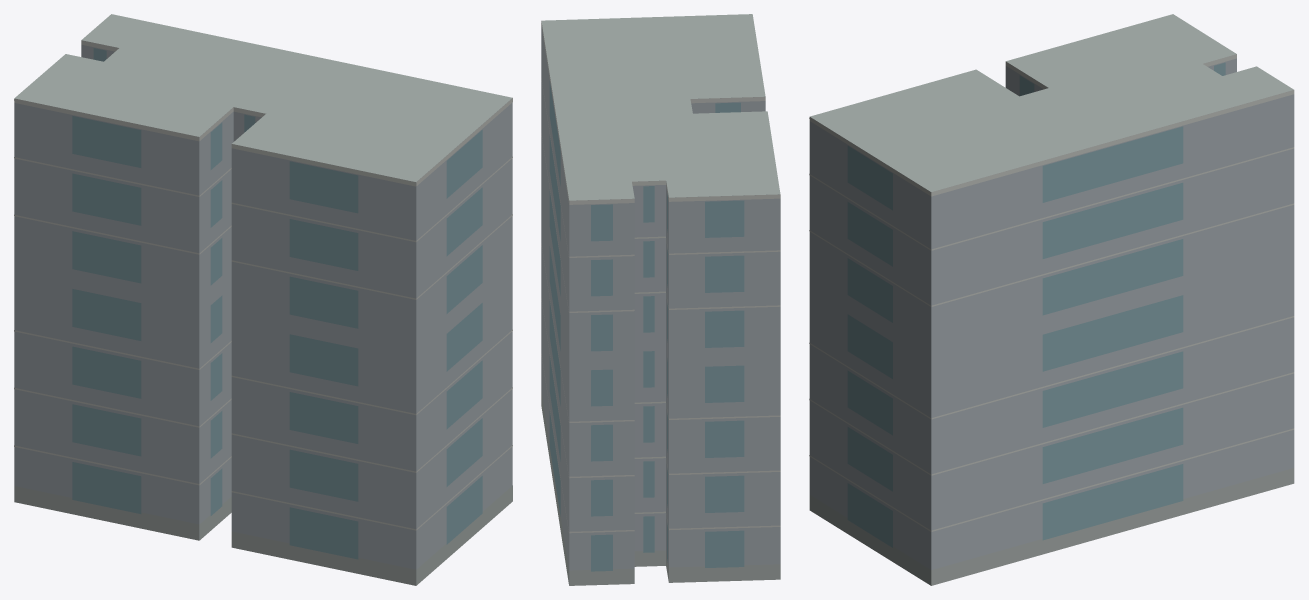
Rendered from survey-upis-32737964.glb.
3 renders of one model, left to right at view 1: azimuth 30°, elevation 25°; view 2: azimuth 150°, elevation 25°; view 3: azimuth 270°, elevation 25°, orthographic. The views are drawn at different scales.
Visible parts, largest first — view 1: survey-upis-32737964.tmp; view 2: survey-upis-32737964.tmp; view 3: survey-upis-32737964.tmp.
Boxes of the visible parts, bbox=[...] form: survey-upis-32737964.tmp: bbox=[14, 14, 512, 585]; survey-upis-32737964.tmp: bbox=[541, 14, 780, 585]; survey-upis-32737964.tmp: bbox=[809, 14, 1294, 585].
Size of the model in its own units: 21.48 by 22.1 by 24.68.
